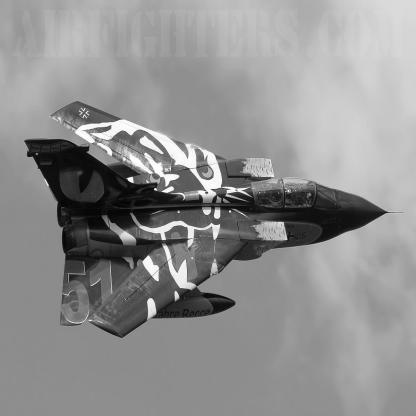Tornado: (25, 102, 405, 340)
